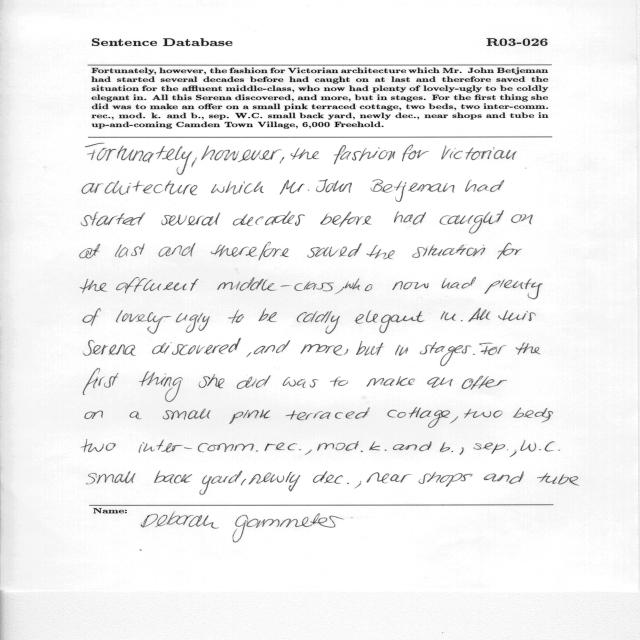word: (86, 143, 193, 175), (116, 310, 210, 334), (371, 179, 455, 202), (82, 181, 198, 196), (139, 439, 258, 453), (217, 277, 334, 291), (355, 310, 424, 333), (439, 210, 504, 234), (152, 338, 241, 355), (211, 242, 289, 260), (201, 146, 282, 163), (139, 371, 183, 402), (116, 277, 199, 293), (387, 407, 450, 428), (484, 279, 543, 300), (420, 342, 471, 366), (334, 145, 395, 165), (286, 408, 370, 421), (233, 211, 305, 226), (441, 146, 517, 160), (249, 472, 301, 492), (200, 471, 243, 495), (413, 244, 486, 258), (297, 311, 340, 334), (83, 368, 119, 395), (82, 212, 146, 226), (510, 440, 560, 457), (84, 340, 136, 356), (307, 243, 362, 258), (418, 472, 473, 487), (320, 212, 372, 227), (162, 213, 221, 226), (211, 181, 264, 194), (86, 471, 136, 484), (462, 376, 507, 390), (230, 410, 271, 424), (537, 473, 579, 486), (366, 376, 415, 387), (483, 471, 524, 484), (163, 409, 211, 420), (159, 243, 196, 257), (317, 441, 363, 452), (316, 179, 352, 193), (254, 341, 290, 355), (367, 473, 412, 484), (236, 375, 271, 389), (300, 344, 343, 355), (465, 180, 504, 192), (313, 471, 349, 484), (402, 145, 429, 162), (154, 471, 192, 483), (81, 440, 116, 453), (394, 211, 426, 225), (115, 244, 145, 258), (356, 341, 384, 356), (498, 310, 536, 321), (442, 277, 476, 289), (280, 180, 309, 194), (497, 243, 522, 259), (367, 245, 395, 259), (393, 441, 432, 451), (283, 377, 318, 388), (474, 443, 509, 454), (80, 279, 107, 293), (345, 279, 373, 292), (199, 374, 225, 388), (464, 409, 503, 418), (291, 148, 320, 160), (392, 281, 429, 290), (516, 342, 541, 355), (83, 308, 101, 326), (479, 343, 506, 355), (469, 308, 491, 322), (80, 244, 100, 259), (265, 443, 301, 451), (427, 377, 453, 388), (535, 408, 554, 423), (258, 308, 277, 322), (513, 407, 534, 418), (228, 310, 244, 324), (511, 215, 533, 225), (330, 377, 348, 387), (369, 441, 387, 451), (441, 311, 456, 321), (85, 411, 103, 419), (395, 345, 408, 356), (440, 442, 453, 452), (130, 411, 142, 419), (334, 287, 344, 294), (450, 417, 458, 424), (192, 158, 197, 168), (354, 482, 361, 489), (305, 450, 312, 456), (459, 447, 464, 455), (280, 157, 285, 164), (246, 352, 252, 357), (241, 479, 246, 485), (344, 349, 348, 355), (461, 320, 463, 321), (473, 354, 475, 355)
